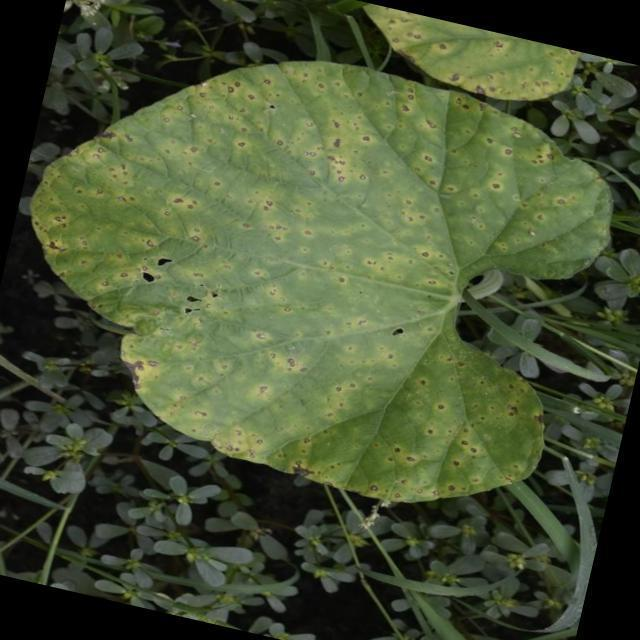Bacterial Spot: (91, 45, 502, 491), (379, 9, 570, 110)
